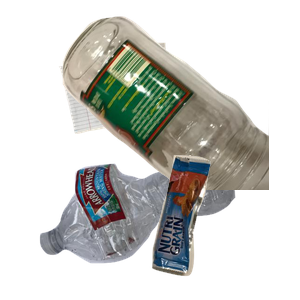glass: (60, 14, 300, 194)
paper: (56, 40, 229, 166)
plastic: (37, 144, 265, 300)
trash: (149, 152, 300, 300)
